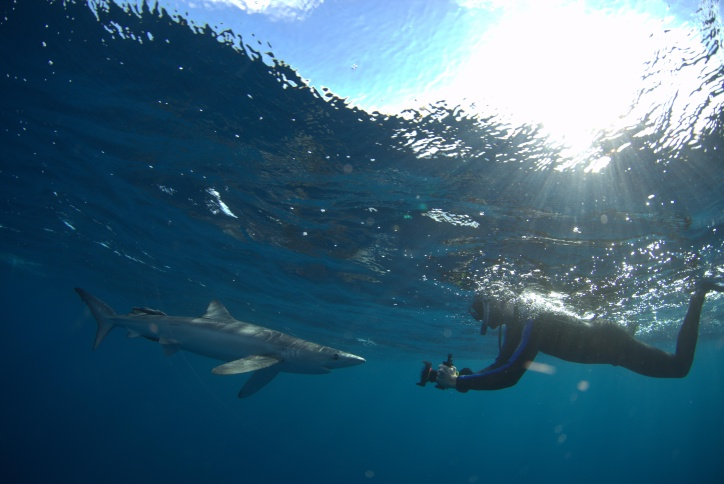Azul: (72, 266, 375, 399)
